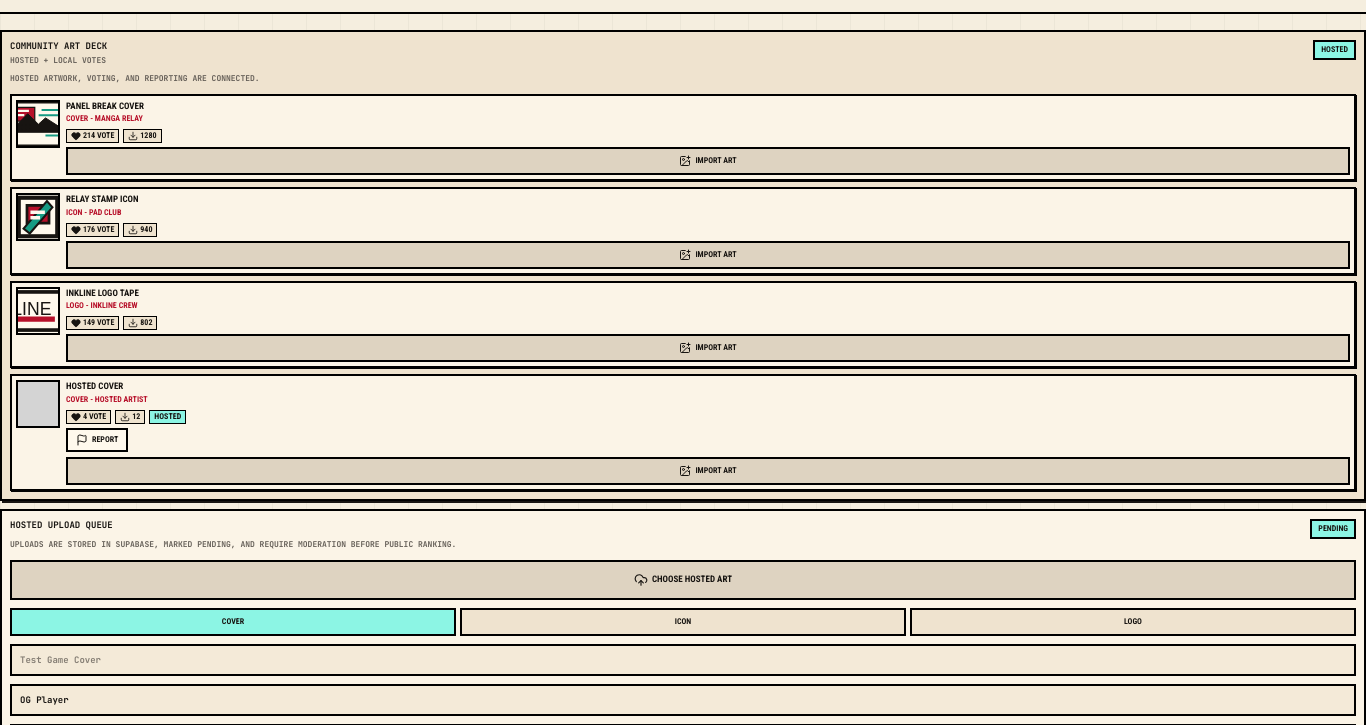
Test case: CommunityArtworkPanel › persists hosted votes and reports
The width and height of the screenshot is (1366, 725).
Click the button with aria-label "add hosted vote".
click(89, 416)  # box left=66, top=410, right=111, bottom=424
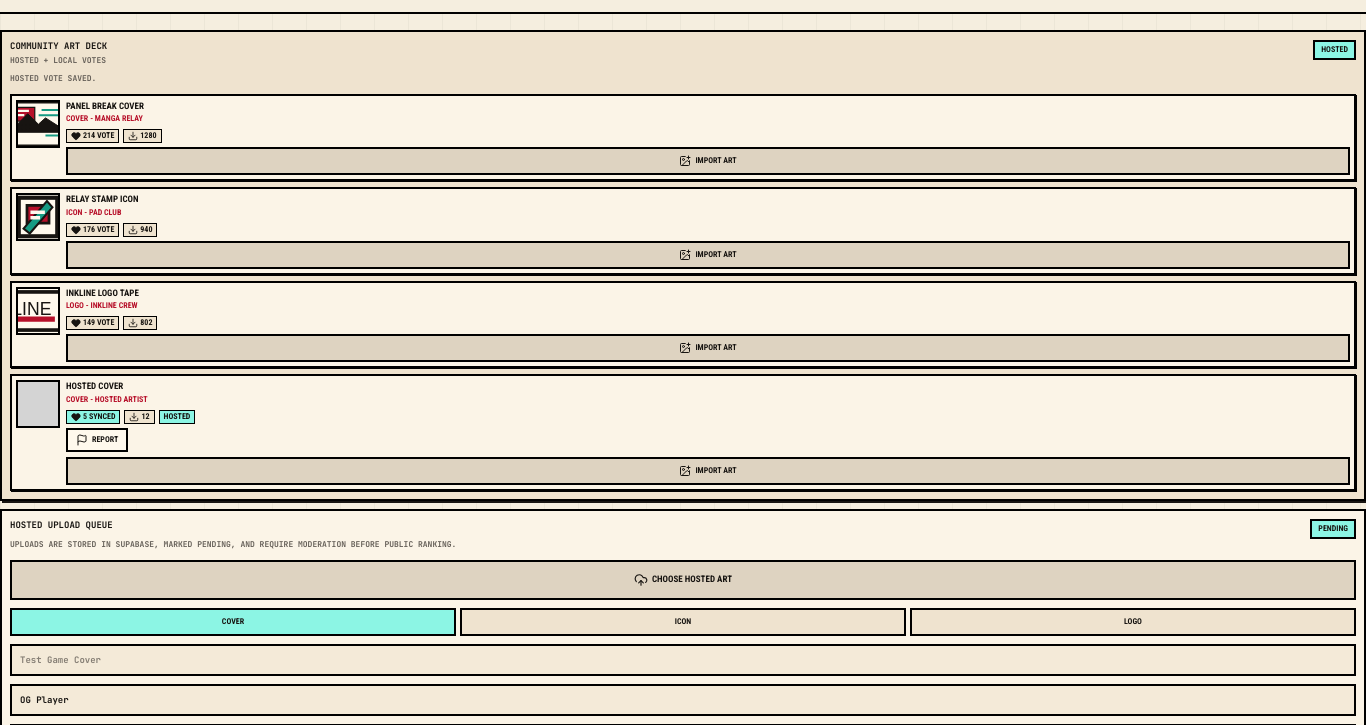
Check: the text "Hosted vote saved." is shown, box left=10, top=70, right=107, bottom=86
Click the button titled "Report Hosted Cover".
click(97, 440)  # box left=66, top=428, right=128, bottom=452
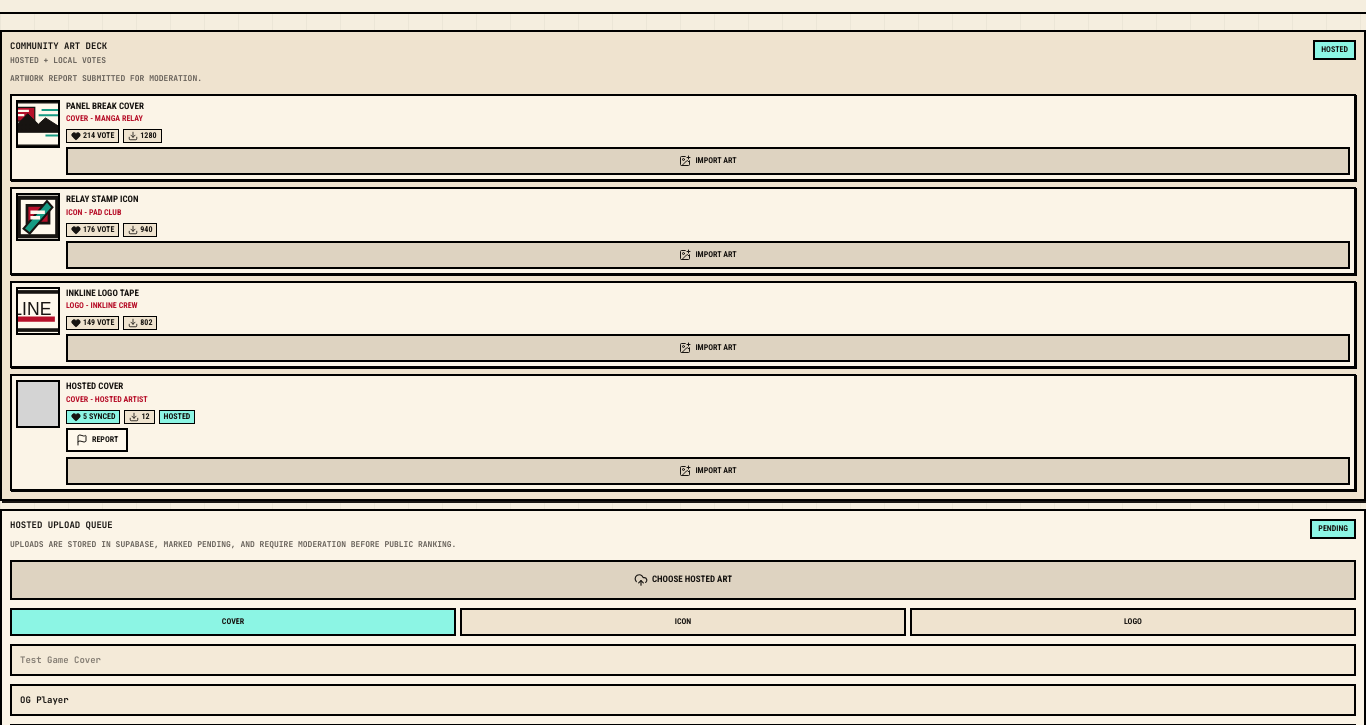
Check: the text "Artwork report submitted for moderation." is shown, box left=10, top=70, right=202, bottom=86
